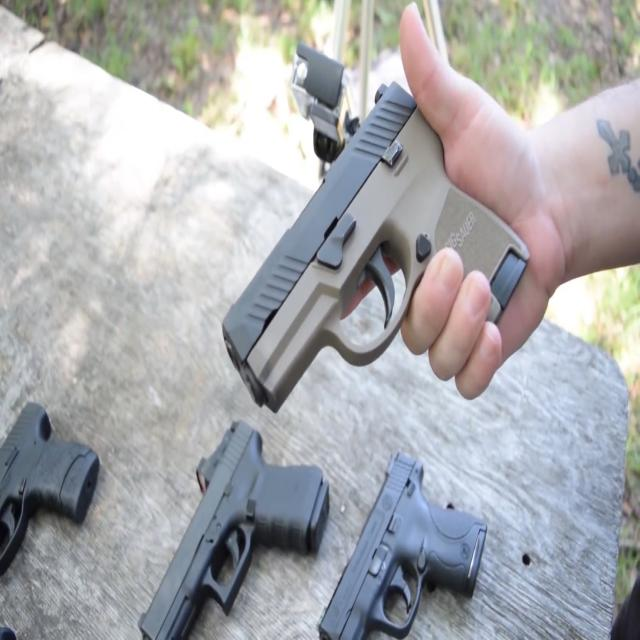handgun: (216, 77, 529, 413), (106, 429, 340, 636), (296, 448, 494, 640), (0, 398, 123, 551)
